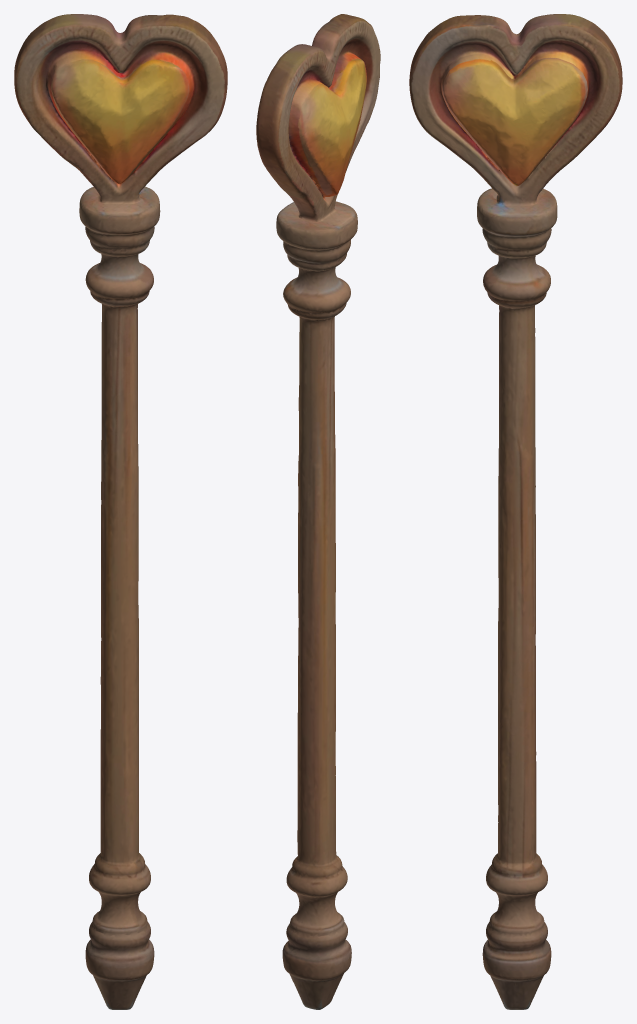
File: baculo.fbx
3 views of the same model, side by side, from view 1: azimuth 90°, elevation 25°; view 2: azimuth 150°, elevation 25°; view 3: azimuth 270°, elevation 25° (orthographic). The views are drawn at different scales.
Visible parts, largest first — view 1: tripo_node_adb7a019; view 2: tripo_node_adb7a019; view 3: tripo_node_adb7a019.
Boxes of the visible parts, x1,y1,x2,y2 form: tripo_node_adb7a019: (14, 14, 227, 1009); tripo_node_adb7a019: (256, 14, 380, 1009); tripo_node_adb7a019: (409, 14, 622, 1009).
Size of the model in its own units: 7.25 by 100 by 19.55.
1 material, 1 textured.
